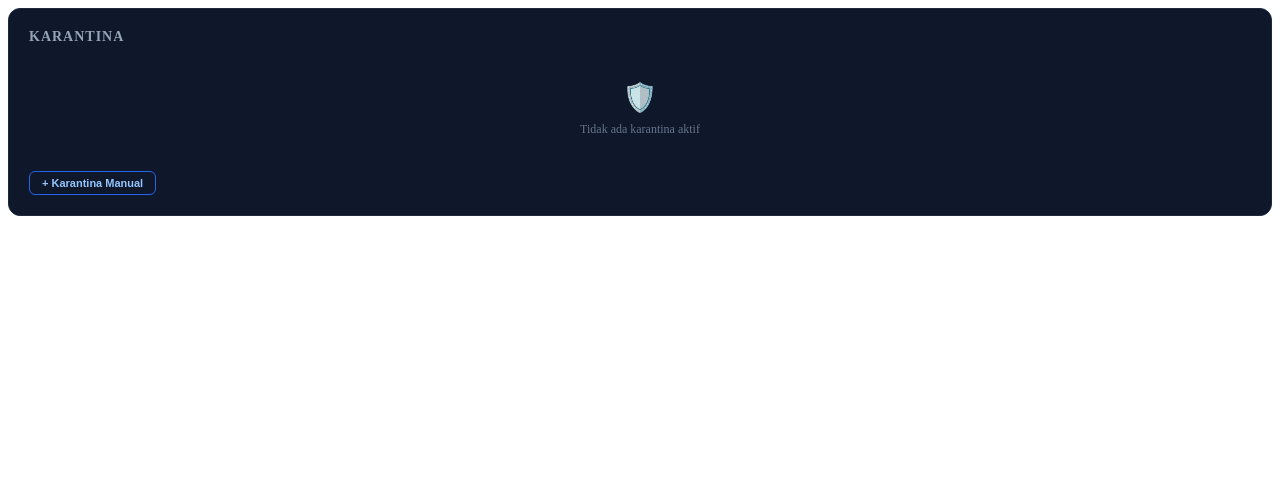
Scenario: QuarantineTable › shows the form when "+ Karantina Manual" is clicked
Click toggle
Step 1. Click the button with test id "toggle-manual-form" → (93, 183), box x1=29 y1=171 x2=156 y2=195
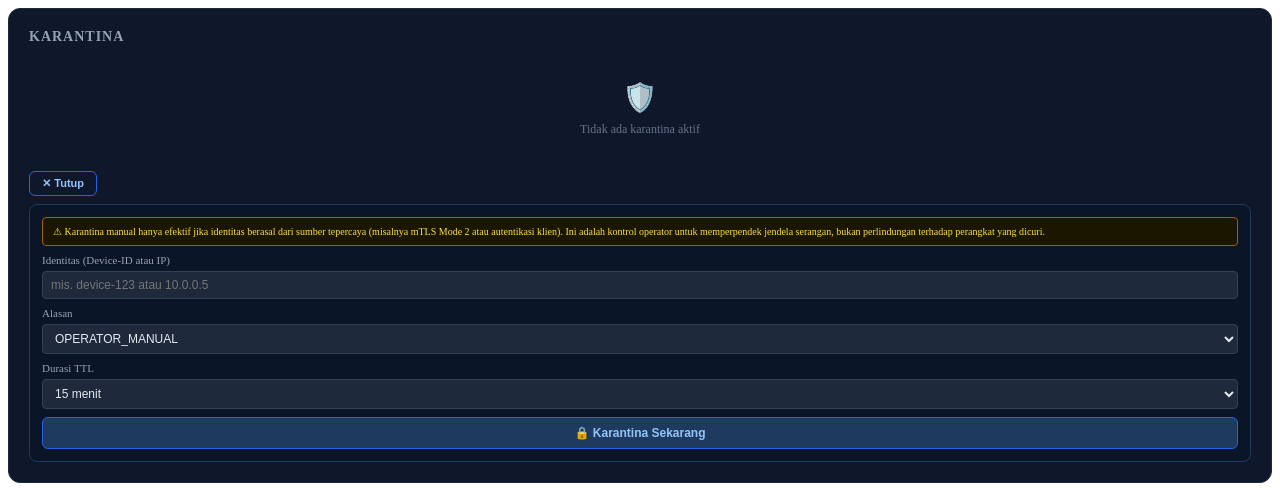
Now the form with test id "manual-quarantine-form" is shown, box x1=29 y1=204 x2=1251 y2=462
Now the text "Karantina manual hanya efektif" is shown, box x1=53 y1=226 x2=1045 y2=237
